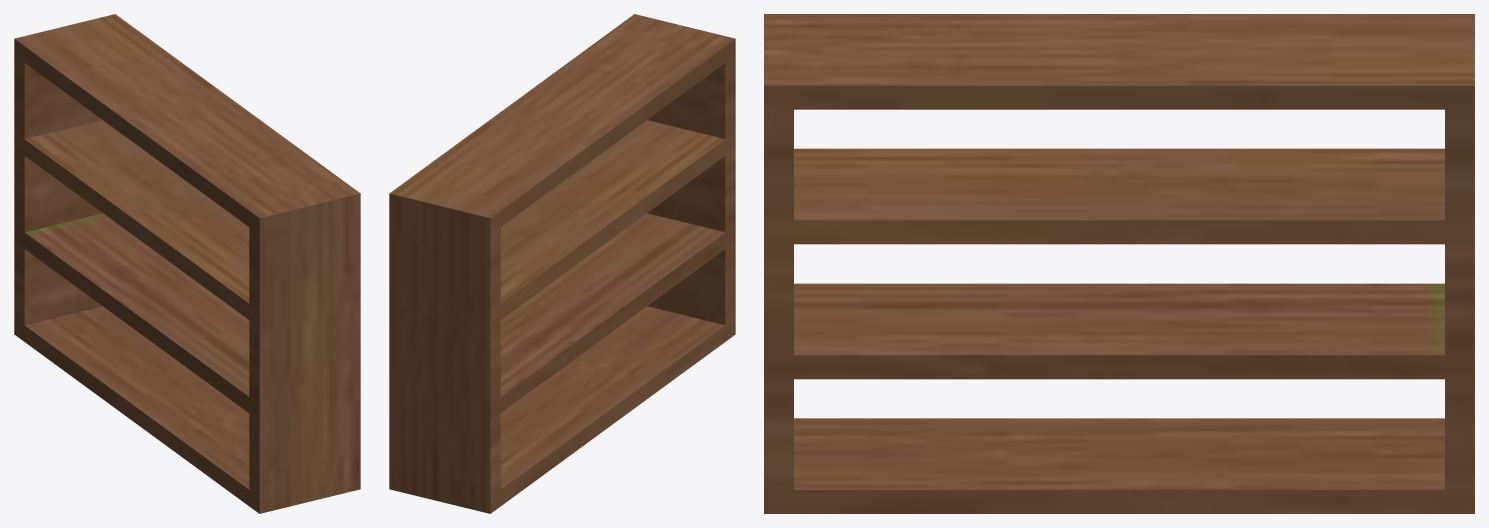
The model's file is Shoe_shelf.fbx.
3 views of the same model, side by side, from view 1: azimuth 30°, elevation 25°; view 2: azimuth 150°, elevation 25°; view 3: azimuth 270°, elevation 25° (orthographic). The views are drawn at different scales.
Visible parts, largest first — view 1: Shoe_shelf; view 2: Shoe_shelf; view 3: Shoe_shelf.
Boxes of the visible parts, bbox=[...] form: Shoe_shelf: bbox=[14, 14, 360, 513]; Shoe_shelf: bbox=[389, 14, 735, 513]; Shoe_shelf: bbox=[764, 14, 1474, 513].
Size of the model in its own units: 0.6332 by 1.77 by 2.66.
Materials: 1 (1 with a texture image).
